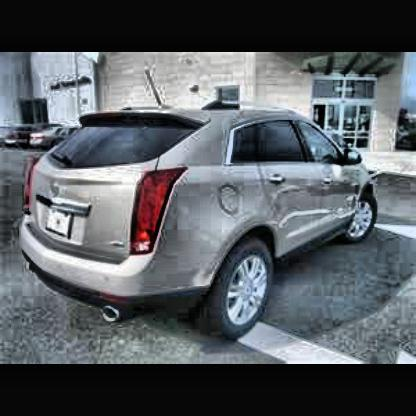Cadillac SRX SUV 2012: (22, 70, 383, 351)
